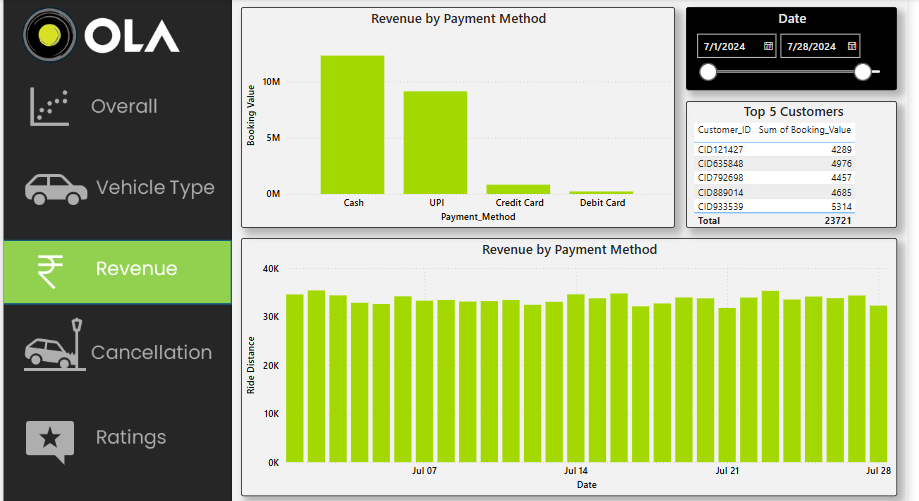

The dashboard page shown, as its layout file describes it:
{"tool":"powerbi","page":{"name":"Revenue","canvas":[1280,720],"ordinal":2},"visuals":[{"type":"actionButton","box":[0,338.7,327.4,90.7],"z":0},{"type":"actionButton","box":[0,452.1,327.4,90.7],"z":1000},{"type":"actionButton","box":[0,576.9,327.4,90.7],"z":2000},{"type":"actionButton","box":[0,109.1,327.4,90.7],"z":3000},{"type":"actionButton","box":[0,221.1,327.4,90.7],"z":4000},{"type":"columnChart","title":"Revenue by Payment Method","fields":{"Y":["Sum(July.Booking_Value)"],"Category":["July.Payment_Method"]},"box":[337.3,11.3,615.1,313.2],"z":5000},{"type":"columnChart","title":"Revenue by Payment Method","fields":{"Category":["July.Date"],"Y":["Sum(July.Ride_Distance)"]},"box":[337.3,338.7,929.8,365.7],"z":6000},{"type":"tableEx","title":"Top 5 Customers","fields":{"Values":["July.Customer_ID","Sum(July.Booking_Value)"]},"box":[968,144.6,299.1,180],"z":7000},{"type":"slicer","title":"Date","fields":{"Values":["July.Date"]},"box":[968,11.3,299.1,117.6],"z":8000}]}

Visuals, with their boxes in screenshot pixels (x1, y1, x2, y2):
actionButton: (x1=0, y1=236, x2=230, y2=300)
actionButton: (x1=0, y1=316, x2=230, y2=381)
actionButton: (x1=0, y1=405, x2=230, y2=469)
actionButton: (x1=0, y1=73, x2=230, y2=137)
actionButton: (x1=0, y1=152, x2=230, y2=217)
"Revenue by Payment Method" columnChart: (x1=237, y1=3, x2=674, y2=226)
"Revenue by Payment Method" columnChart: (x1=237, y1=236, x2=898, y2=496)
"Top 5 Customers" tableEx: (x1=685, y1=98, x2=898, y2=226)
"Date" slicer: (x1=685, y1=3, x2=898, y2=87)
